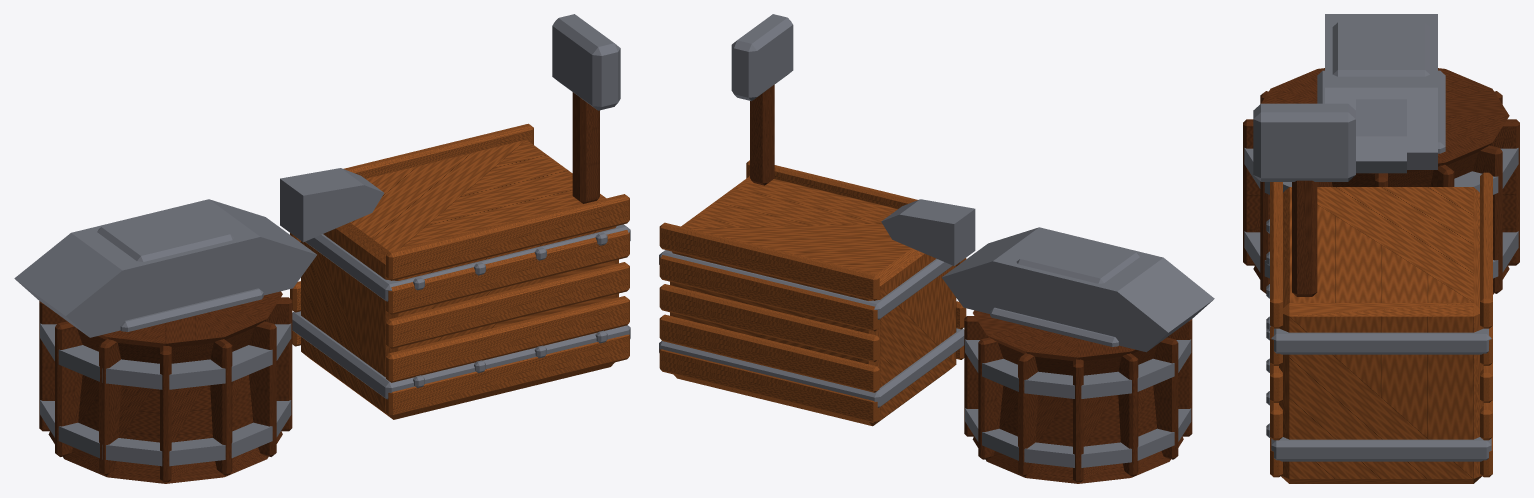
File: fantasy-mmo-city-and-townsfolk-anvil-and-quench-trough-f19d79a9__32752.glb
The picture shows the model from 3 angles, left to right: view 1: azimuth 30°, elevation 25°; view 2: azimuth 150°, elevation 25°; view 3: azimuth 270°, elevation 25°; orthographic projection. The views are drawn at different scales.
Parts seen in each view (by area): view 1: anvil-and-quench-trough; view 2: anvil-and-quench-trough; view 3: anvil-and-quench-trough.
Boxes of the visible parts, x1,y1,x2,y2 form: anvil-and-quench-trough: [14, 14, 630, 483]; anvil-and-quench-trough: [659, 14, 1214, 483]; anvil-and-quench-trough: [1243, 14, 1519, 483].
Size of the model in its own units: 2.67 by 1.58 by 1.08.
Materials: 4 (2 with a texture image).
